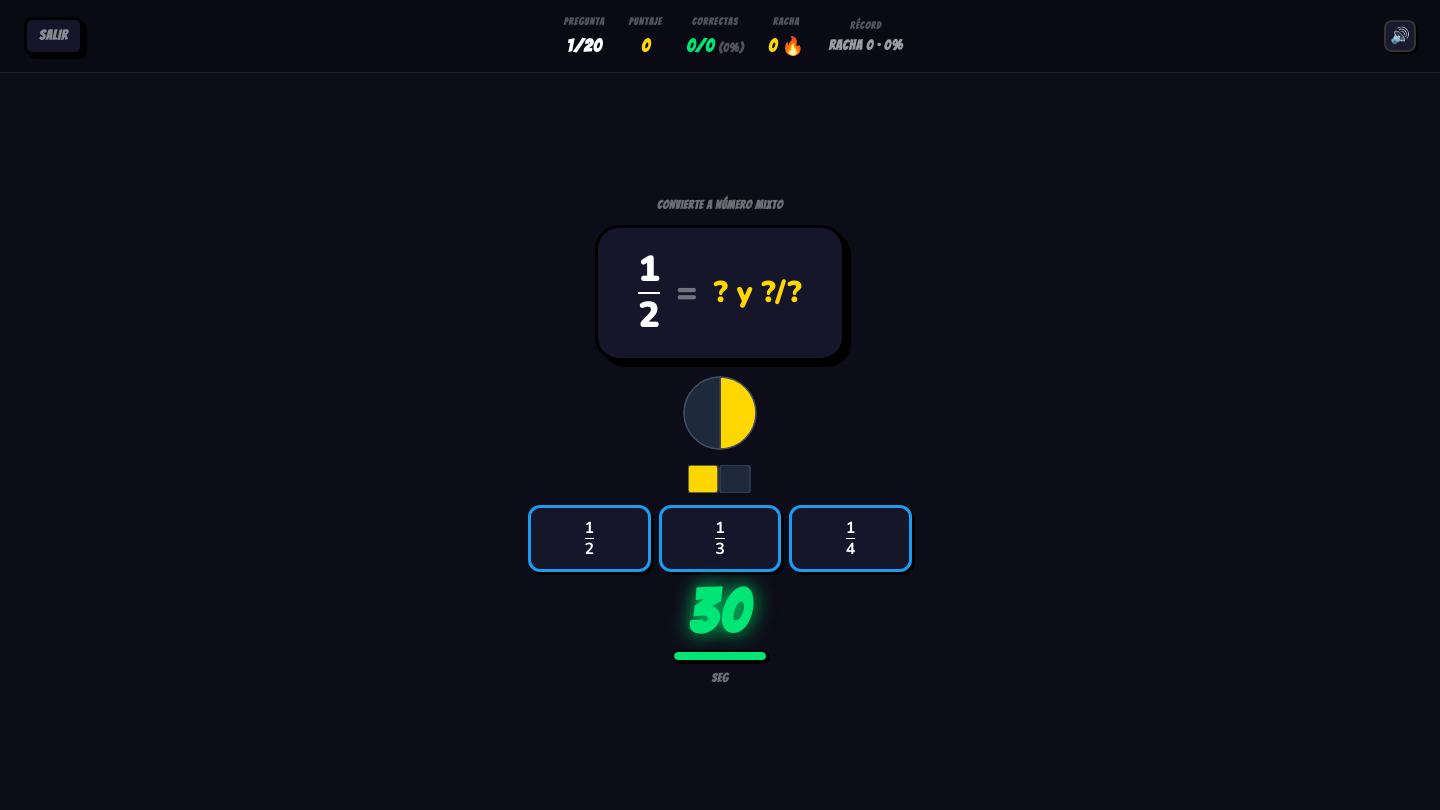
it: SoloGame › opens the game-over screen and allows restarting practice
The width and height of the screenshot is (1440, 810).
What coordinates should you click on to do the following:
click the button "SALIR"
I would click on:
 (53, 36)
Its box is [24,17,83,55].
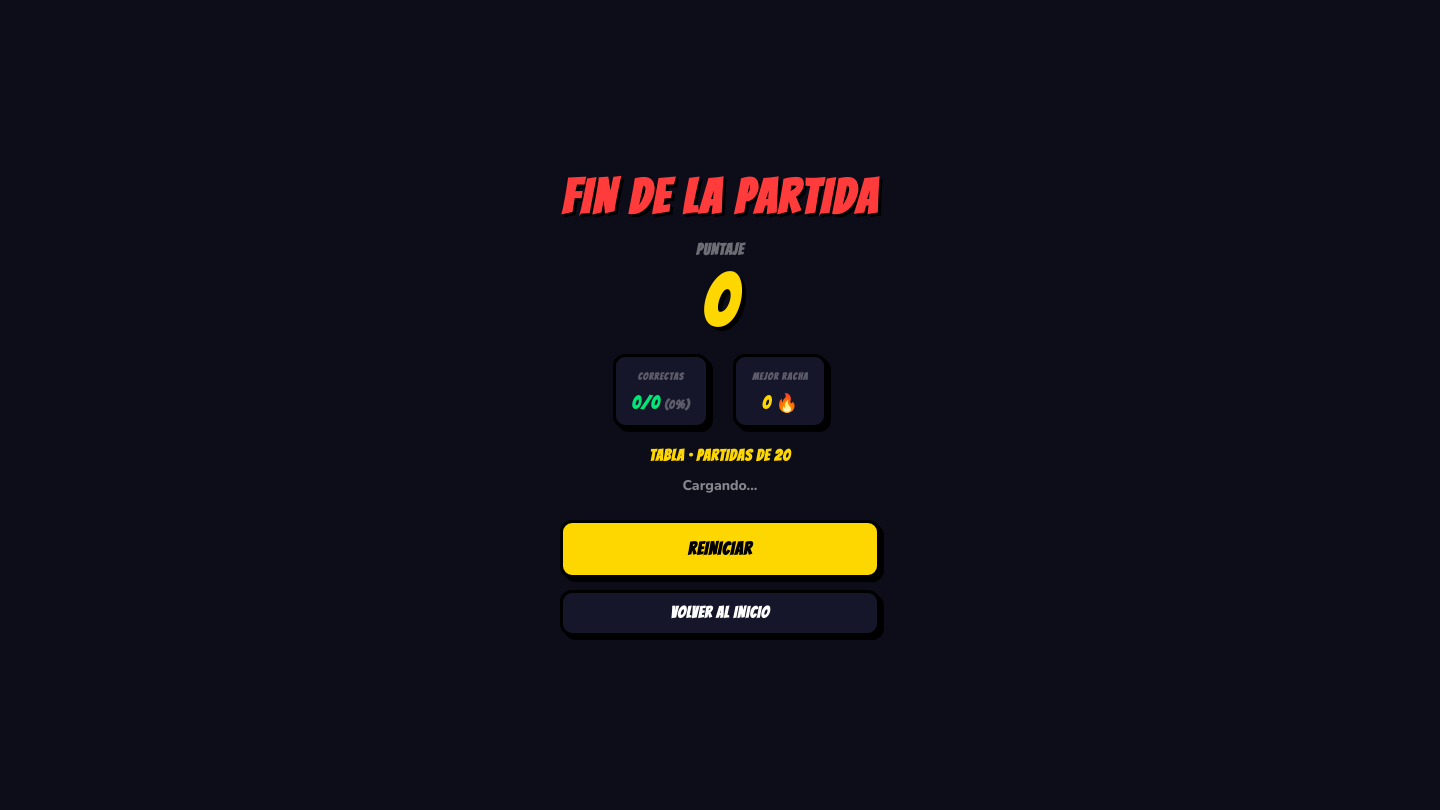
expect the text "FIN DE LA PARTIDA" is shown: met, box [562,174,878,222]
What coordinates should you click on to do the following:
click the button "REINICIAR"
I would click on:
 (720, 549)
Its box is [560,520,880,578].
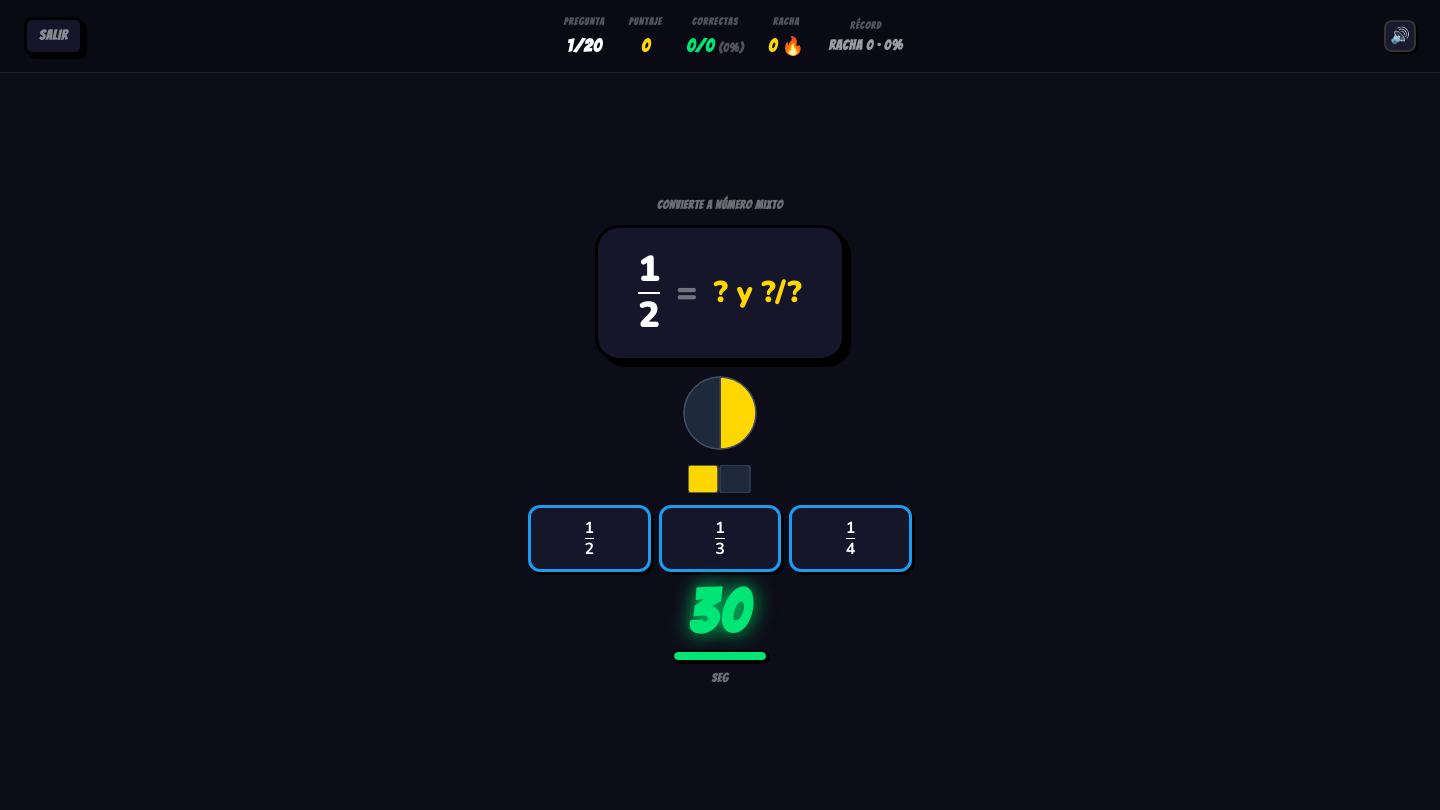
expect the text "FIN DE LA PARTIDA" is gone: met
